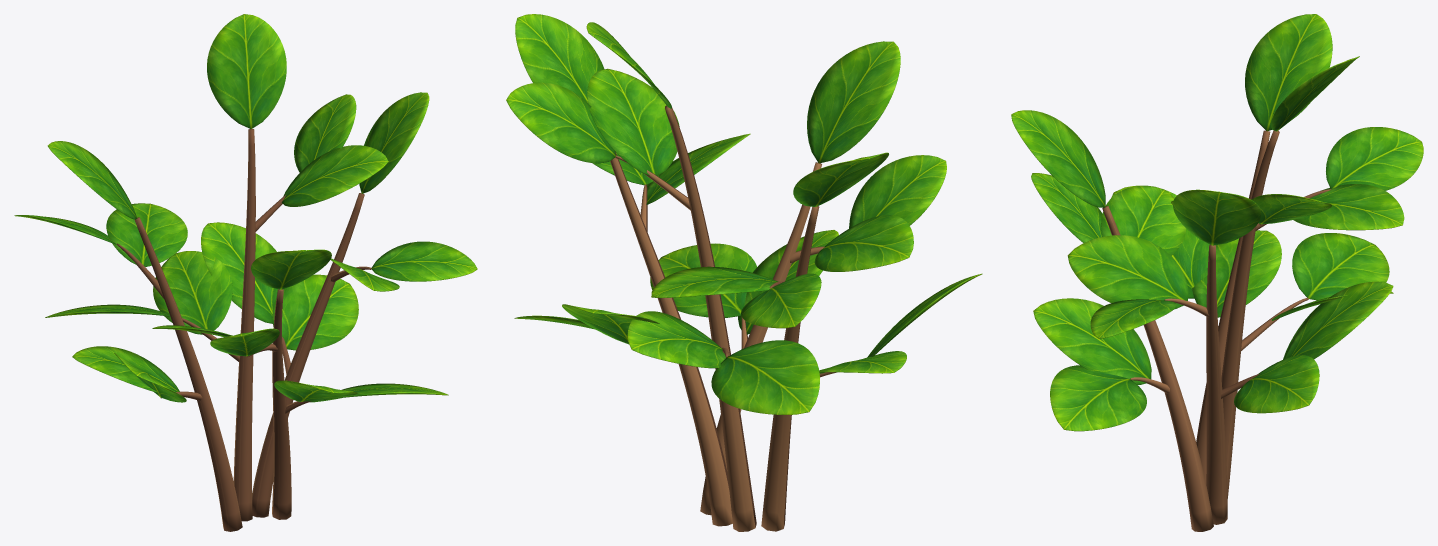
File: NP_Blueberry_Young.fbx
3 views of the same model, side by side, from view 1: azimuth 30°, elevation 25°; view 2: azimuth 150°, elevation 25°; view 3: azimuth 270°, elevation 25° (orthographic). The views are drawn at different scales.
Parts seen in each view (by area): view 1: NP_Blueberry_Young; view 2: NP_Blueberry_Young; view 3: NP_Blueberry_Young.
Part boxes in pixels (left/top/right/bottom): NP_Blueberry_Young: left=14, top=14, right=477, bottom=531; NP_Blueberry_Young: left=506, top=14, right=982, bottom=531; NP_Blueberry_Young: left=1011, top=14, right=1423, bottom=531.
Bounding box in the file's own units: 39.09 × 48.51 × 37.05.
